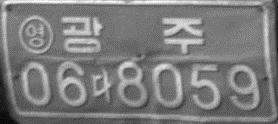0: (150, 61, 184, 109), (20, 59, 51, 108)
5: (189, 62, 221, 110)
6: (54, 60, 86, 107)
8: (115, 60, 147, 109)
9: (227, 63, 261, 111)
광주_D: (61, 14, 205, 55)
다: (89, 67, 112, 103)
영: (18, 14, 54, 54)
